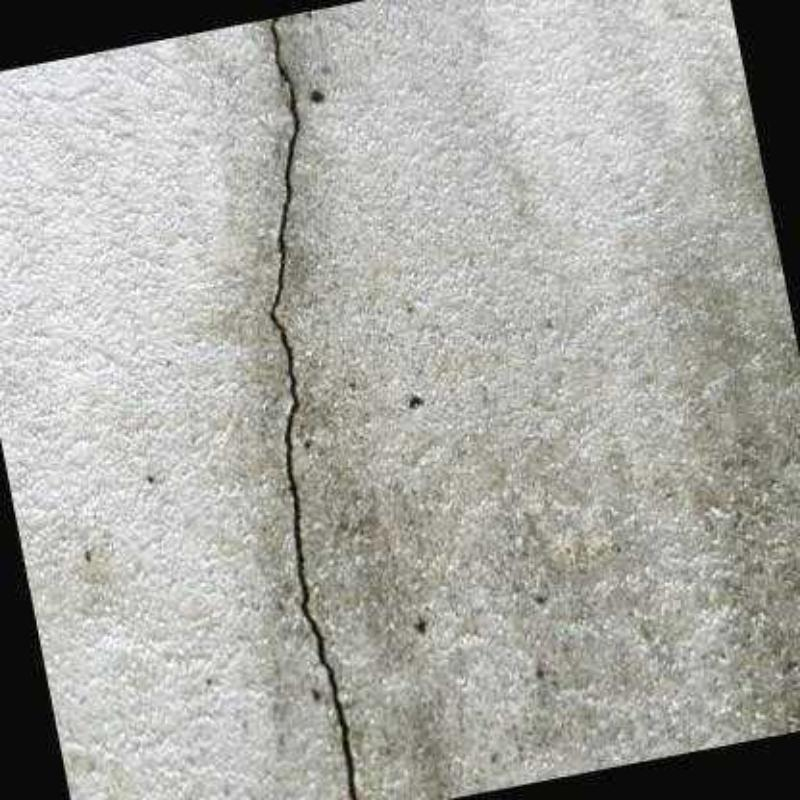pothole: (269, 18, 359, 800)
